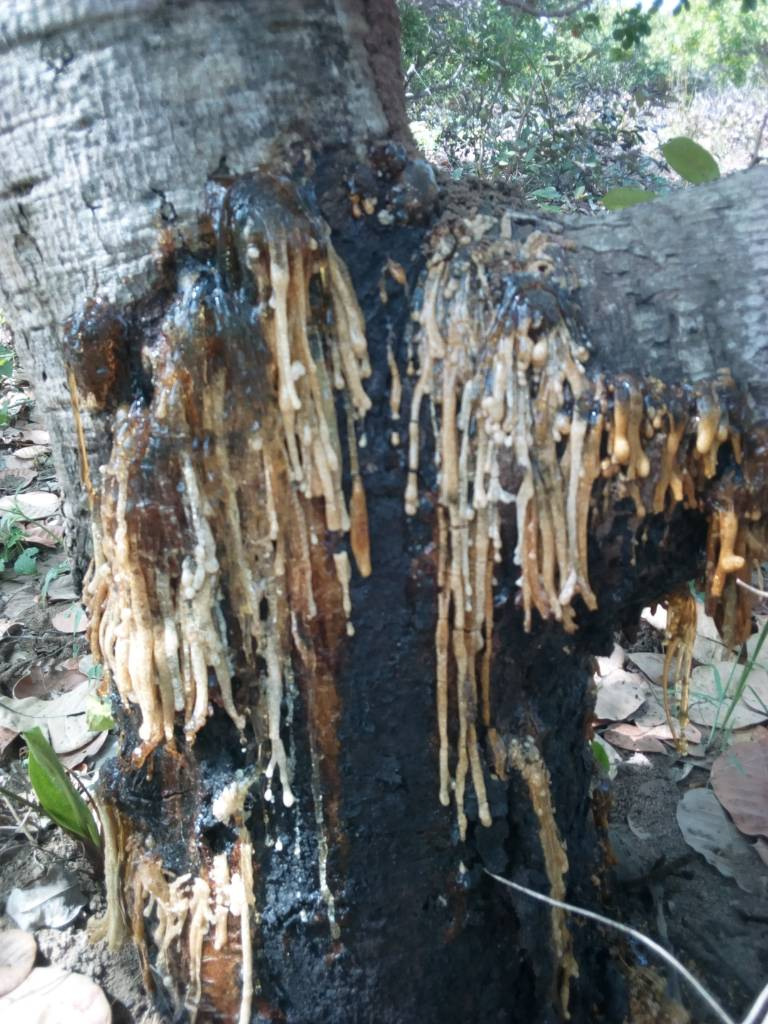Gommose: (91, 228, 643, 1024)
